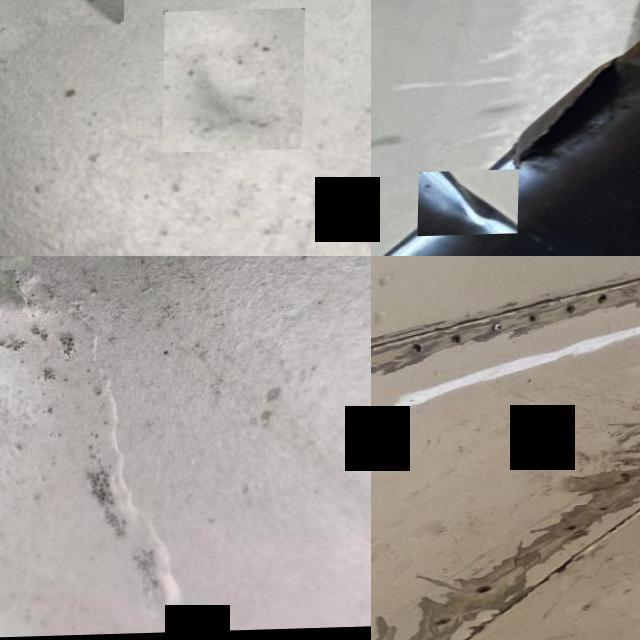Dent: (164, 10, 307, 154), (419, 171, 520, 237), (0, 0, 127, 28)
Missing_Fastener: (450, 335, 466, 347), (596, 296, 611, 308), (409, 346, 424, 356), (477, 588, 493, 596), (528, 317, 540, 327), (566, 308, 578, 318)
